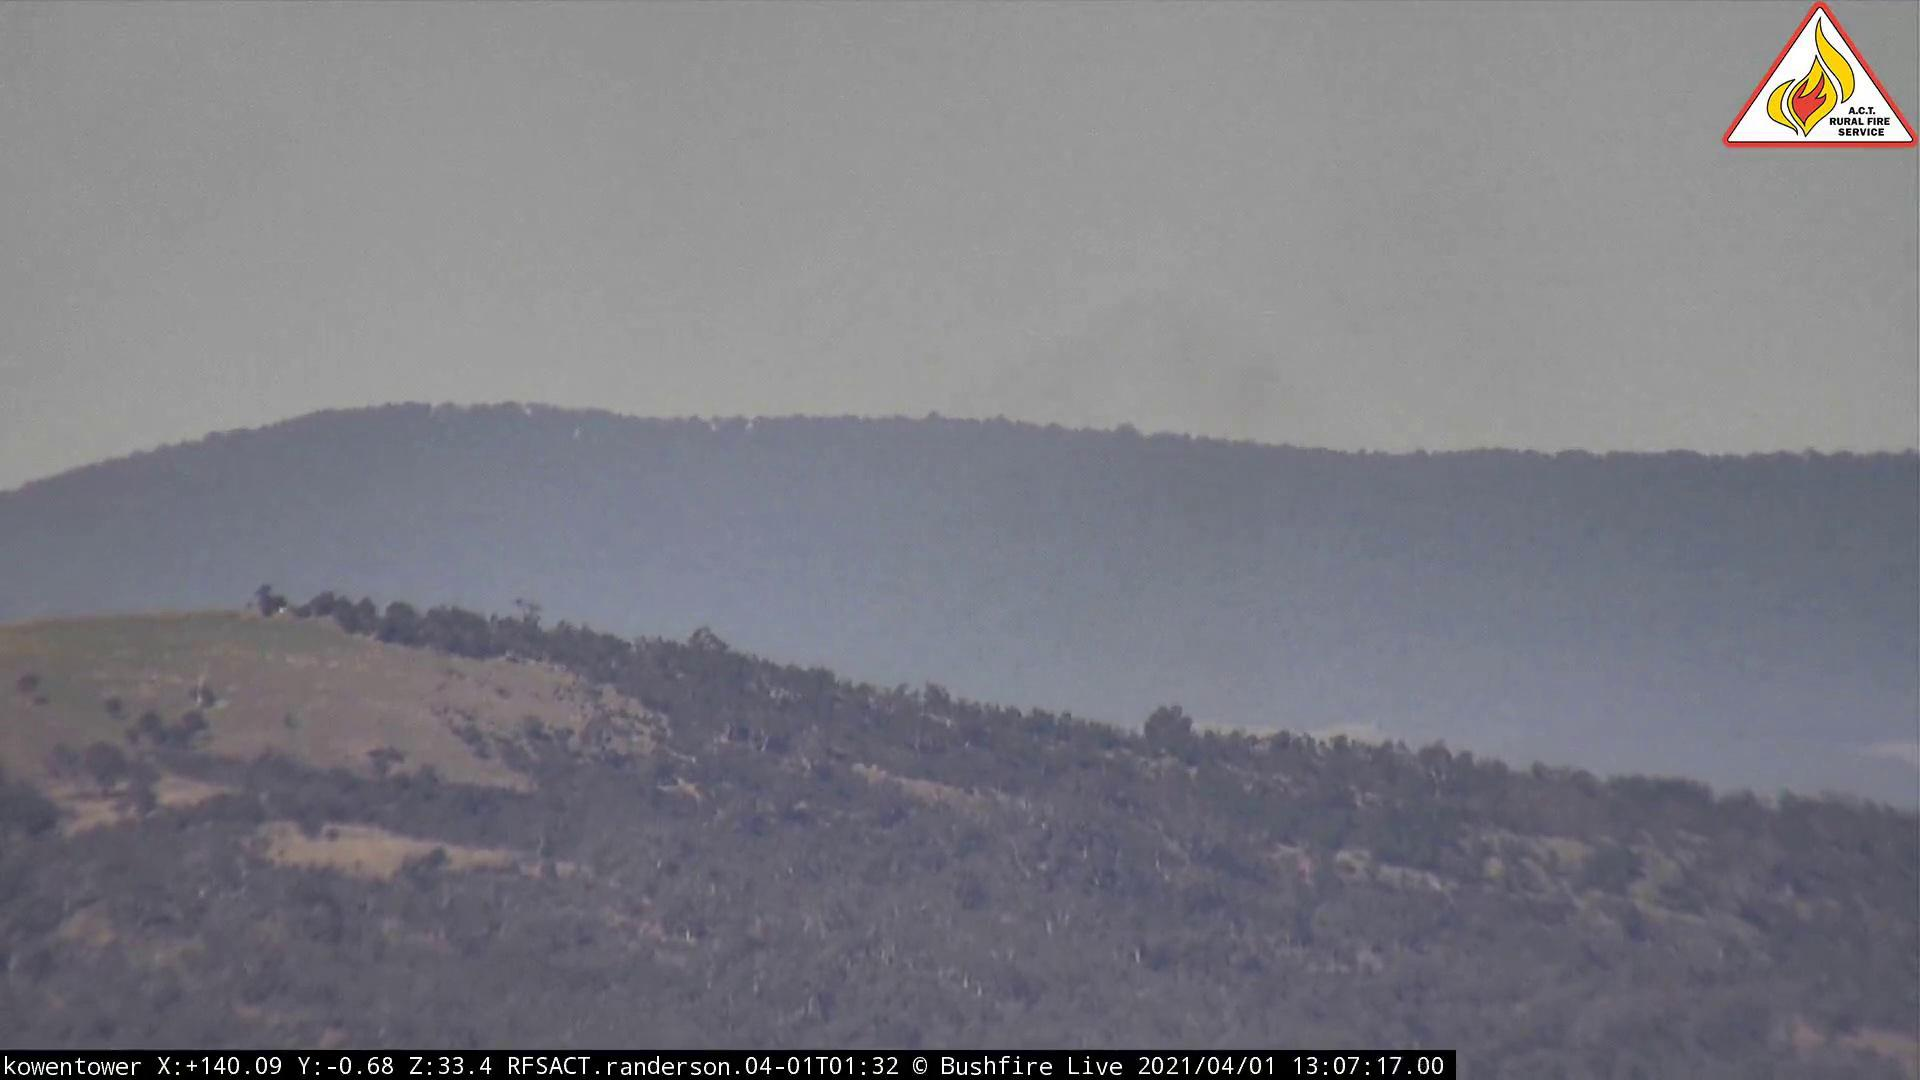Smoke: (860, 215, 1400, 570)
